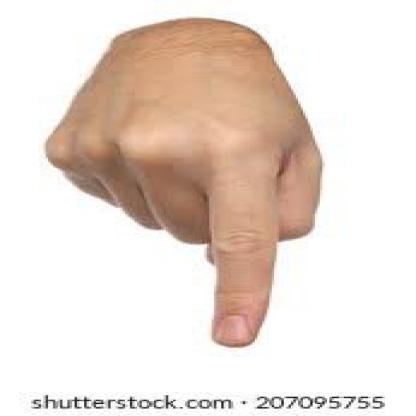Down: (35, 20, 340, 356)
